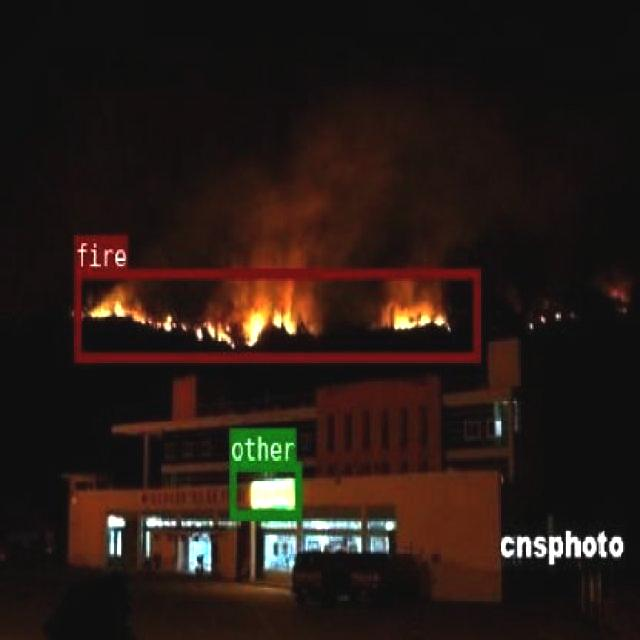fire: (73, 266, 479, 360)
